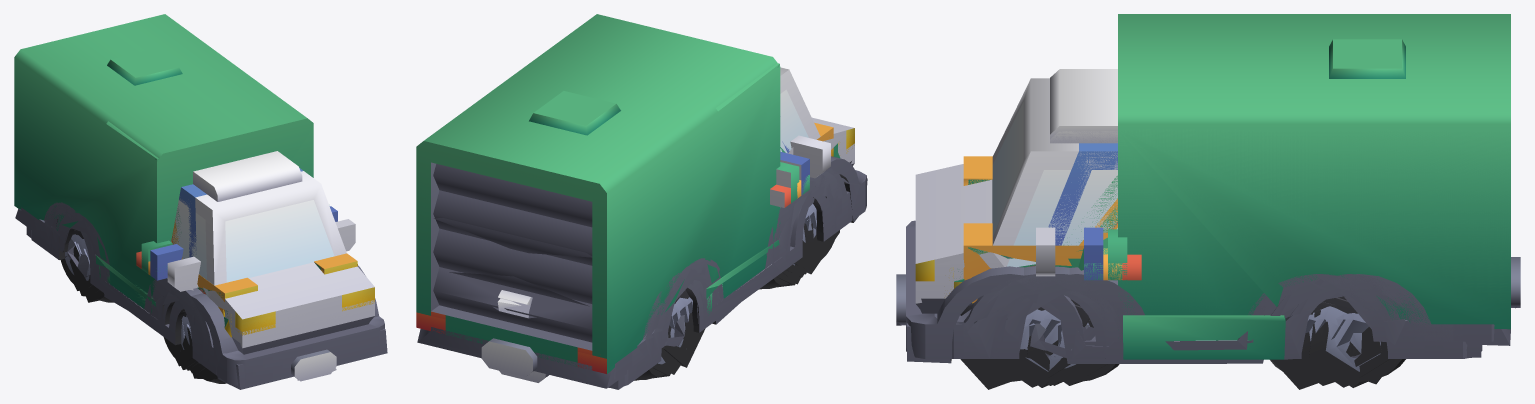
The model's file is kenney-car-kit.glb.
The picture shows the model from 3 angles, left to right: view 1: azimuth 30°, elevation 25°; view 2: azimuth 150°, elevation 25°; view 3: azimuth 270°, elevation 25°; orthographic projection. The views are drawn at different scales.
Parts seen in each view (by area): view 1: delivery, delivery-low, van, taxi-low, sedan, suv, hatchback-sports, taxi, truck, sedan-low, hatchback-sports-low, truck-low (+2 smaller); view 2: delivery, delivery-low, sedan, hatchback-sports, sedan-low, suv, truck, hatchback-sports-low, truck-low, taxi, van, suv-low (+2 smaller); view 3: delivery, delivery-low, hatchback-sports-low, van, sedan, suv, sedan-low, hatchback-sports, truck-low, taxi-low, taxi, truck (+2 smaller).
Part boxes in pixels (x1,y1,x2,y2): delivery: (14,14,384,385); delivery-low: (14,121,387,389); van: (39,168,337,366); taxi-low: (44,218,357,331); sedan: (45,211,205,362); suv: (59,214,321,366); hatchback-sports: (35,202,213,370); taxi: (38,205,335,369); truck: (31,204,231,375); sedan-low: (51,224,195,366); hatchback-sports-low: (61,234,201,372); truck-low: (26,219,231,374); delivery: (416,14,866,381); delivery-low: (416,63,867,388); sedan: (645,181,835,372); hatchback-sports: (632,171,848,379); sedan-low: (651,198,827,365); suv: (653,162,841,350); truck: (499,141,852,387); hatchback-sports-low: (634,195,822,380); truck-low: (608,153,840,389); taxi: (636,129,842,378); van: (547,139,837,376); suv-low: (663,184,826,367); delivery: (896,14,1520,381); delivery-low: (896,129,1516,389); hatchback-sports-low: (954,237,1368,387); van: (977,143,1420,381); sedan: (992,222,1424,381); suv: (968,179,1410,381); sedan-low: (1005,280,1410,385); hatchback-sports: (955,248,1453,381); truck-low: (956,248,1481,387); taxi-low: (957,156,1381,384); taxi: (963,179,1443,381); truck: (934,175,1482,377).
Bounding box in the file's own units: 2.14 × 2.36 × 4.65.
1 material, 1 textured.
